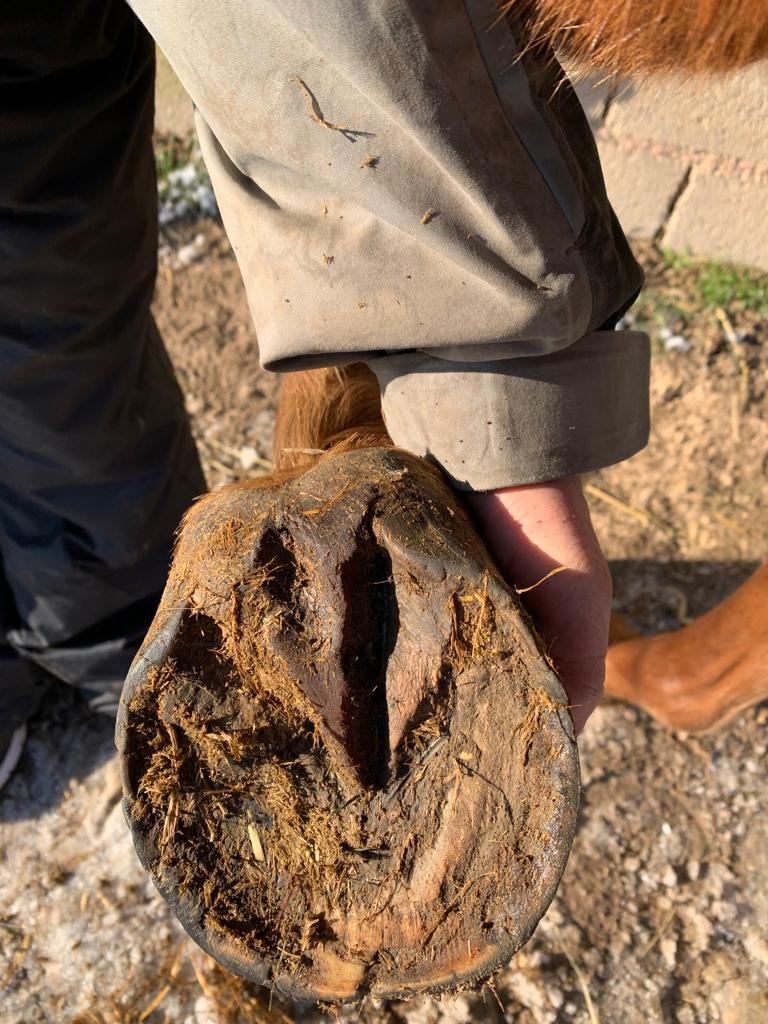horsesole: (112, 519, 583, 1008)
